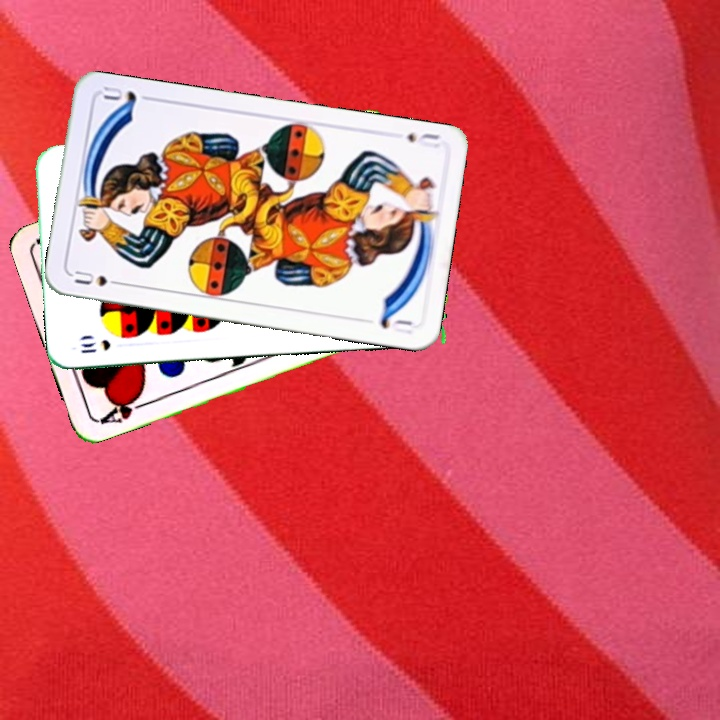HA: (96, 389, 152, 427)
S10: (75, 335, 113, 356)
SU: (68, 266, 127, 289), (402, 129, 442, 151)
